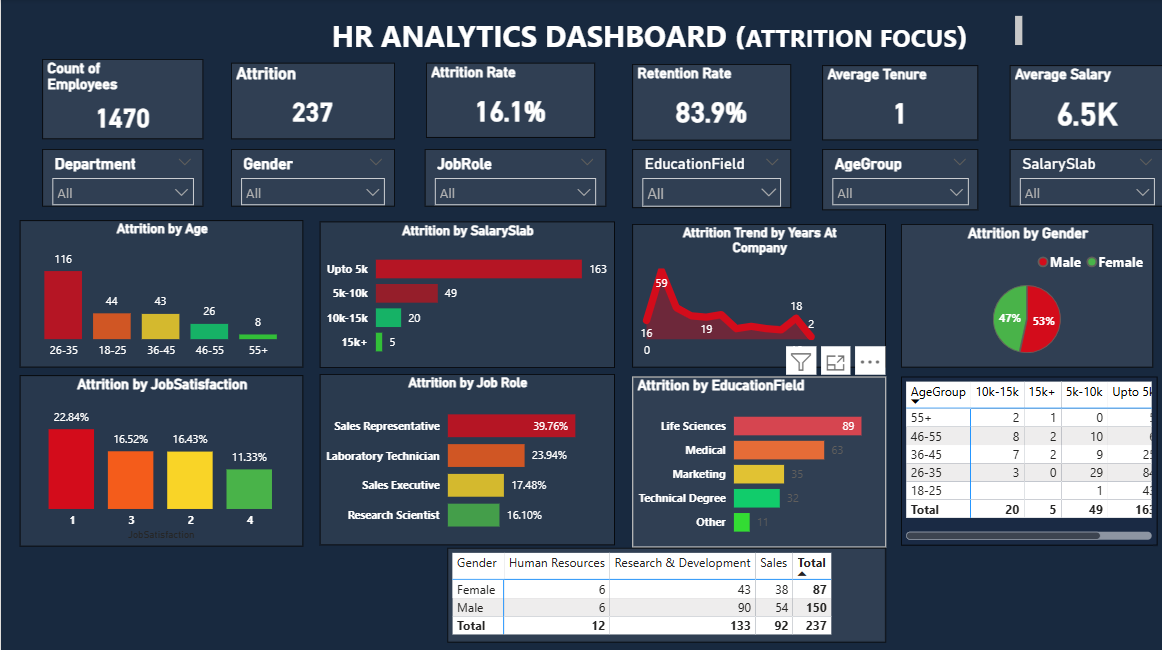

The page's visual inventory and layout, read from the dashboard file:
{"tool":"powerbi","page":{"name":"Page 1","canvas":[1280,720],"ordinal":0},"visuals":[{"type":"card","title":"Count of Employees","fields":{"Values":["Count(HR_Analytics.EmpID)"]},"box":[45.3,65.9,177,87.8],"z":0},{"type":"card","title":" Attrition","fields":{"Values":["Sum(HR_Analytics.AttritionCount)"]},"box":[252.5,70,179.8,83.7],"z":1000},{"type":"card","title":"Attrition Rate","fields":{"Values":["HR_Analytics.Attrition Rate"]},"box":[466.6,70,185.2,82.3],"z":2000},{"type":"textbox","box":[306,13.7,820.6,46.7],"z":3000},{"type":"card","title":"Average Salary","fields":{"Values":["Avg(HR_Analytics.MonthlyIncome)"]},"box":[1107.4,72.7,170.2,82.3],"z":4000},{"type":"columnChart","title":"Attrition by Age","fields":{"Category":["HR_Analytics.AgeGroup"],"Y":["Sum(HR_Analytics.AttritionCount)"]},"box":[20.6,242.9,311.5,161.9],"z":5000},{"type":"barChart","title":"Attrition by SalarySlab","fields":{"Category":["HR_Analytics.SalarySlab"],"Y":["Sum(HR_Analytics.AttritionCount)"]},"box":[349.9,244.3,323.8,160.5],"z":6000},{"type":"barChart","title":"Attrition by Job Role","fields":{"Category":["HR_Analytics.JobRole"],"Y":["HR_Analytics.Attrition Rate"]},"box":[349.9,411.7,323.8,188],"z":7000},{"type":"areaChart","title":"Attrition Trend by Years At Company","fields":{"Category":["HR_Analytics.YearsAtCompany"],"Y":["Sum(HR_Analytics.AttritionCount)"]},"box":[693,247,278.6,157.8],"z":8000},{"type":"card","title":"Retention Rate","fields":{"Values":["HR_Analytics.retention rate"]},"box":[693,71.4,174.3,83.7],"z":9000},{"type":"slicer","fields":{"Values":["HR_Analytics.Department"]},"box":[45.3,164.7,177,63.1],"z":10000},{"type":"slicer","fields":{"Values":["HR_Analytics.AgeGroup"]},"box":[901.5,164.7,171.5,67.2],"z":11000},{"type":"slicer","fields":{"Values":["HR_Analytics.Gender"]},"box":[252.5,164.7,179.8,63.1],"z":12000},{"type":"slicer","fields":{"Values":["HR_Analytics.EducationField"]},"box":[693,164.7,174.3,64.5],"z":13000},{"type":"slicer","fields":{"Values":["HR_Analytics.SalarySlab"]},"box":[1107.4,164.7,170.2,63.1],"z":14000},{"type":"slicer","fields":{"Values":["HR_Analytics.JobRole"]},"box":[465.2,164.7,199,63.1],"z":15000},{"type":"clusteredBarChart","title":"Attrition by EducationField","fields":{"Category":["HR_Analytics.EducationField"],"Y":["Sum(HR_Analytics.AttritionCount)"]},"box":[693,414.4,278.6,188],"z":16000},{"type":"columnChart","title":"Attrition by JobSatisfaction","fields":{"Category":["HR_Analytics.JobSatisfaction"],"Y":["HR_Analytics.Attrition Rate"]},"box":[20.6,413,311.5,188],"z":17000},{"type":"pivotTable","fields":{"Rows":["HR_Analytics.Gender"],"Columns":["HR_Analytics.Department"],"Values":["Sum(HR_Analytics.AttritionCount)"]},"box":[489.9,602.4,481.6,104.3],"z":18000},{"type":"pivotTable","fields":{"Rows":["HR_Analytics.AgeGroup"],"Values":["Sum(HR_Analytics.AttritionCount)"],"Columns":["HR_Analytics.SalarySlab"]},"box":[988,414.4,281.3,185.2],"z":19000},{"type":"card","title":"Average Tenure","fields":{"Values":["HR_Analytics.average tenure (years)"]},"box":[901.5,72.7,171.5,82.3],"z":20000},{"type":"pieChart","title":"Attrition by Gender","fields":{"Category":["HR_Analytics.Gender"],"Y":["HR_Analytics.Attrition Rate"]},"box":[988,247,277.2,157.8],"z":21000}]}

Visuals, with their boxes in screenshot pixels (x1, y1, x2, y2), scaled from the page's 1280x720 canvas onto the 1162x650 screenshot:
"Count of Employees" card: {"x1": 41, "y1": 59, "x2": 202, "y2": 139}
" Attrition" card: {"x1": 229, "y1": 63, "x2": 392, "y2": 139}
"Attrition Rate" card: {"x1": 424, "y1": 63, "x2": 592, "y2": 137}
textbox: {"x1": 278, "y1": 12, "x2": 1023, "y2": 55}
"Average Salary" card: {"x1": 1005, "y1": 66, "x2": 1160, "y2": 140}
"Attrition by Age" columnChart: {"x1": 19, "y1": 219, "x2": 301, "y2": 365}
"Attrition by SalarySlab" barChart: {"x1": 318, "y1": 221, "x2": 612, "y2": 365}
"Attrition by Job Role" barChart: {"x1": 318, "y1": 372, "x2": 612, "y2": 541}
"Attrition Trend by Years At Company" areaChart: {"x1": 629, "y1": 223, "x2": 882, "y2": 365}
"Retention Rate" card: {"x1": 629, "y1": 64, "x2": 787, "y2": 140}
slicer - HR_Analytics.Department: {"x1": 41, "y1": 149, "x2": 202, "y2": 206}
slicer - HR_Analytics.AgeGroup: {"x1": 818, "y1": 149, "x2": 974, "y2": 209}
slicer - HR_Analytics.Gender: {"x1": 229, "y1": 149, "x2": 392, "y2": 206}
slicer - HR_Analytics.EducationField: {"x1": 629, "y1": 149, "x2": 787, "y2": 207}
slicer - HR_Analytics.SalarySlab: {"x1": 1005, "y1": 149, "x2": 1160, "y2": 206}
slicer - HR_Analytics.JobRole: {"x1": 422, "y1": 149, "x2": 603, "y2": 206}
"Attrition by EducationField" clusteredBarChart: {"x1": 629, "y1": 374, "x2": 882, "y2": 544}
"Attrition by JobSatisfaction" columnChart: {"x1": 19, "y1": 373, "x2": 301, "y2": 543}
pivotTable - HR_Analytics.Gender x HR_Analytics.Department: {"x1": 445, "y1": 544, "x2": 882, "y2": 638}
pivotTable - HR_Analytics.AgeGroup x Sum(HR_Analytics.AttritionCount): {"x1": 897, "y1": 374, "x2": 1152, "y2": 541}
"Average Tenure" card: {"x1": 818, "y1": 66, "x2": 974, "y2": 140}
"Attrition by Gender" pieChart: {"x1": 897, "y1": 223, "x2": 1149, "y2": 365}
